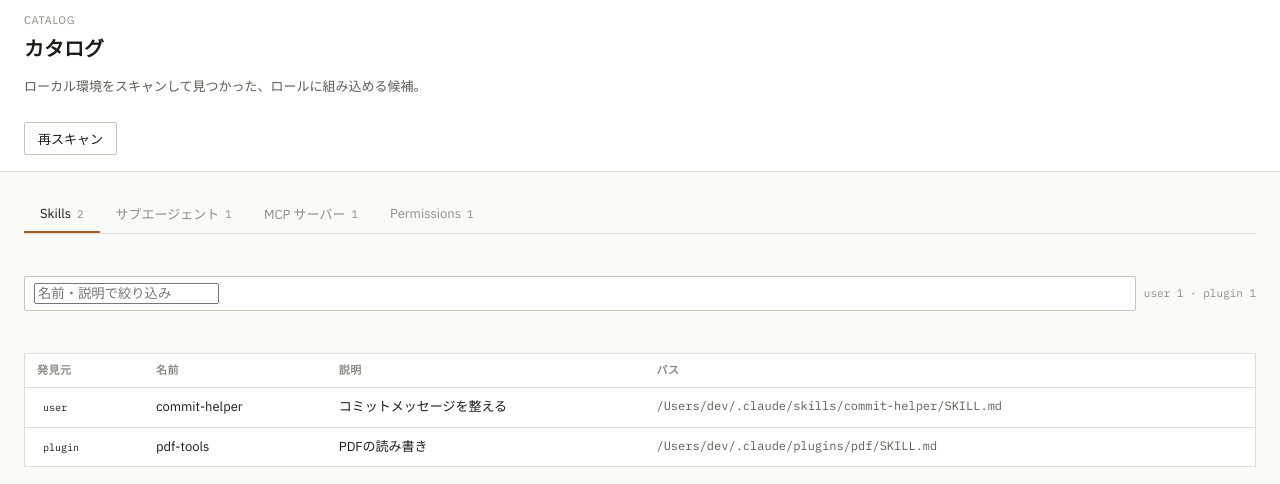
it: Catalog › shows mcp servers with command column when that tab is active
The image size is (1280, 484).
Expected: the text "commit-helper" is shown, x1=144 y1=388 x2=327 y2=427
Click the tab "MCP サーバー 1". click: [311, 215]
box: x1=248 y1=196 x2=374 y2=233
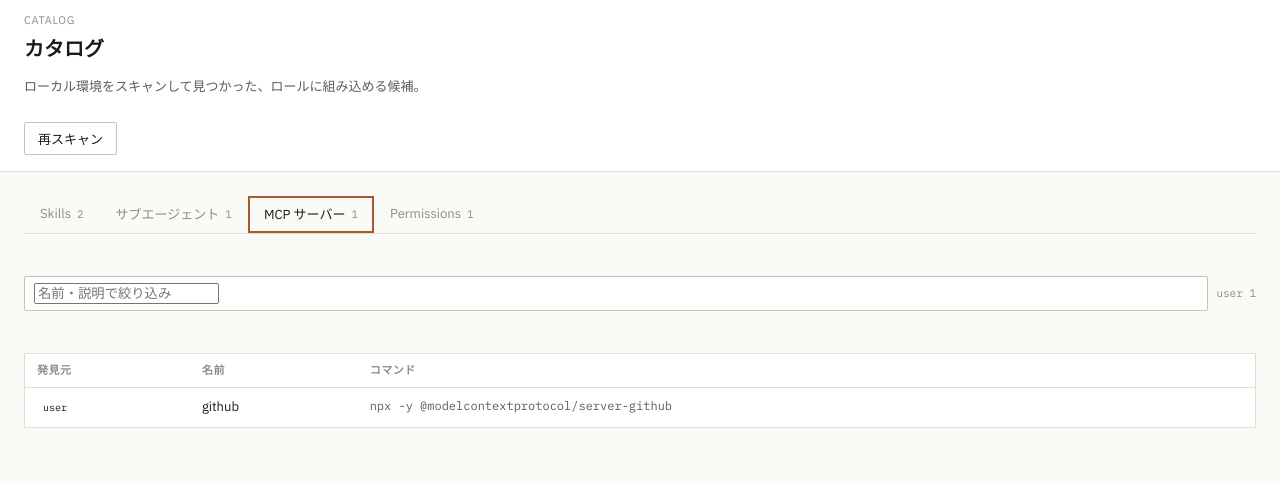
Expected: the text "github" is shown, x1=190 y1=388 x2=358 y2=427
Expected: the text "npx -y @modelcontextprotocol/server-github" is shown, x1=358 y1=388 x2=1255 y2=427
